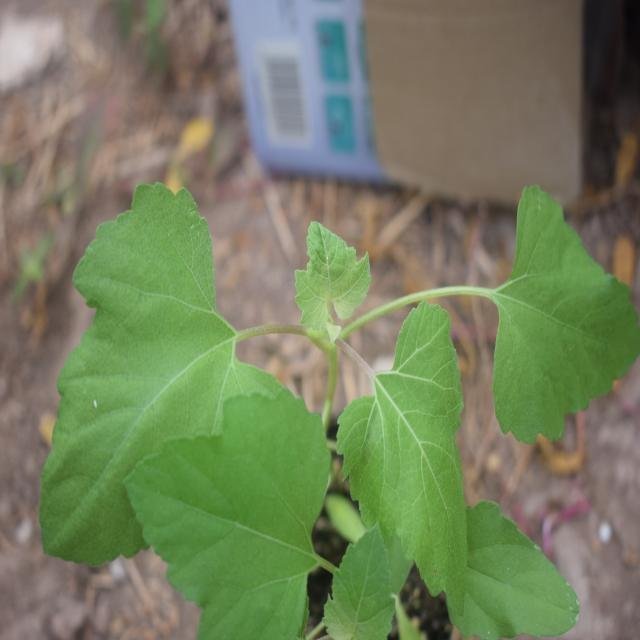cocklebur: (66, 207, 634, 573)
